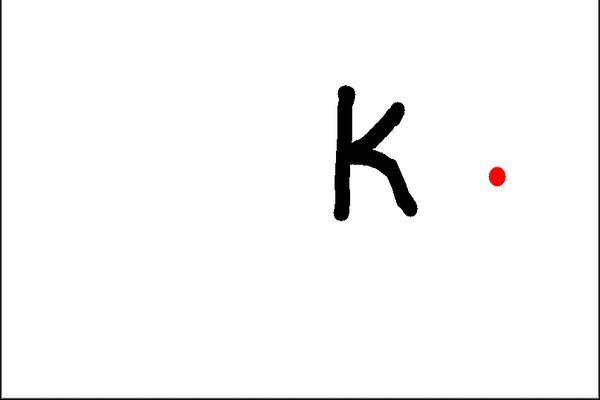K: (325, 78, 419, 222)
